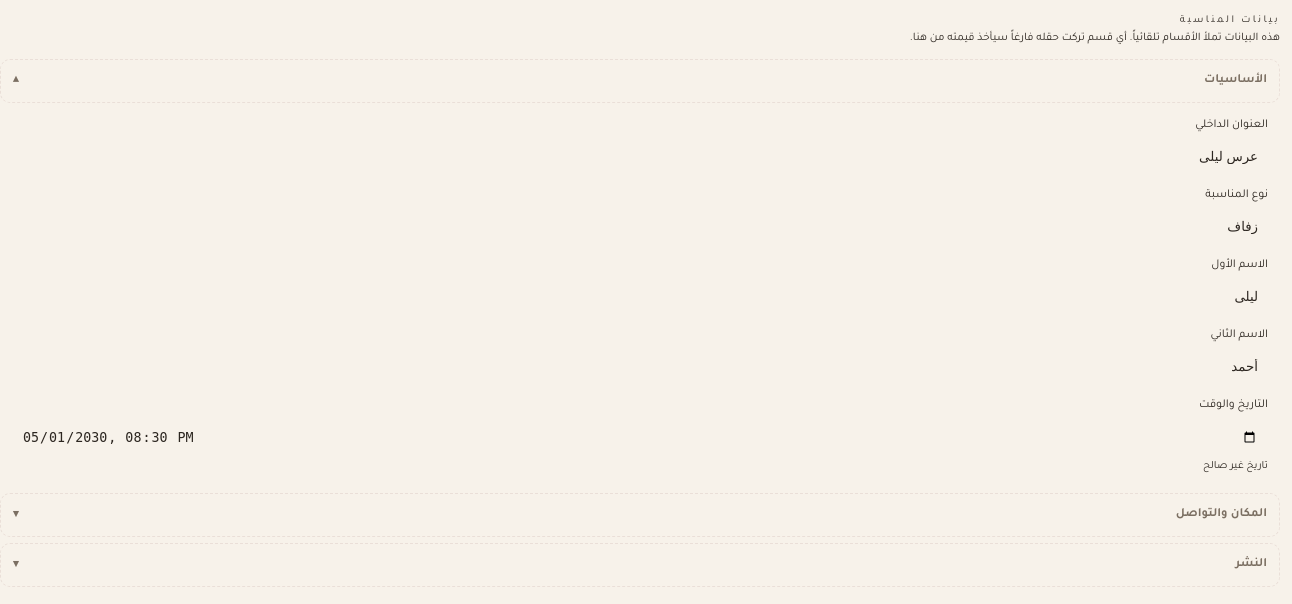
it: DataPanel › shows the validation error under its field and clears it on edit
Expected: the message reads "تاريخ غير صالح", [1203, 461, 1268, 472]
Replace the text in the field labelled "التاريخ والوقت" with "2031-01-02T10:00" at [640, 437], box [12, 421, 1268, 454]
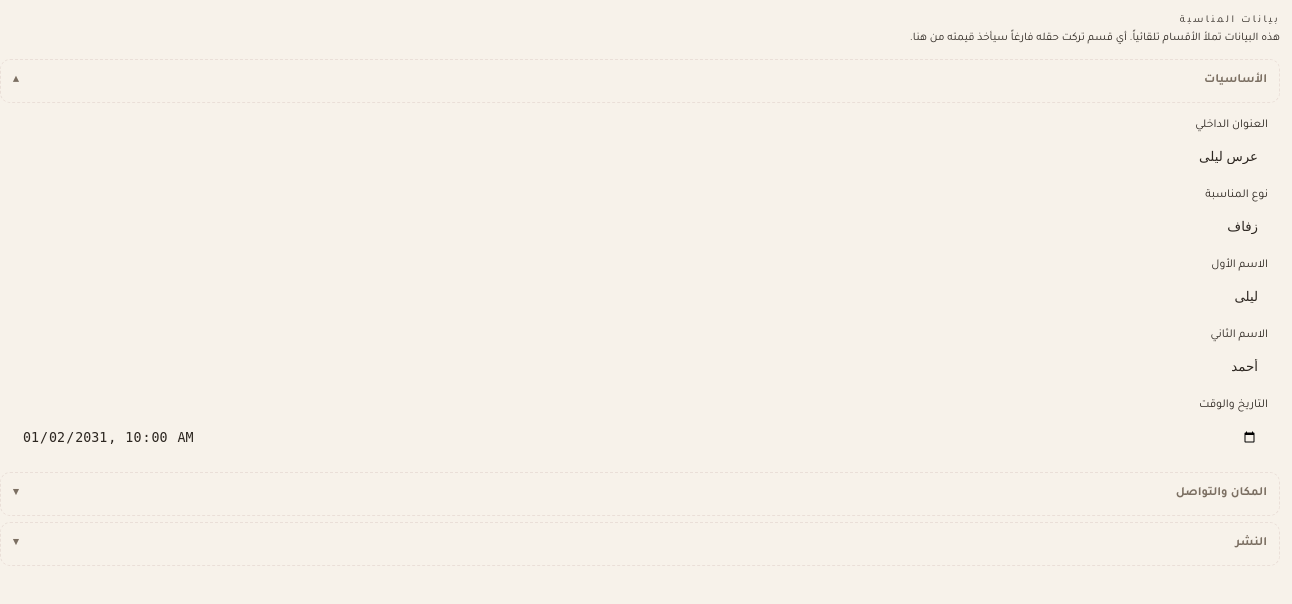
Now the message "تاريخ غير صالح" is gone
